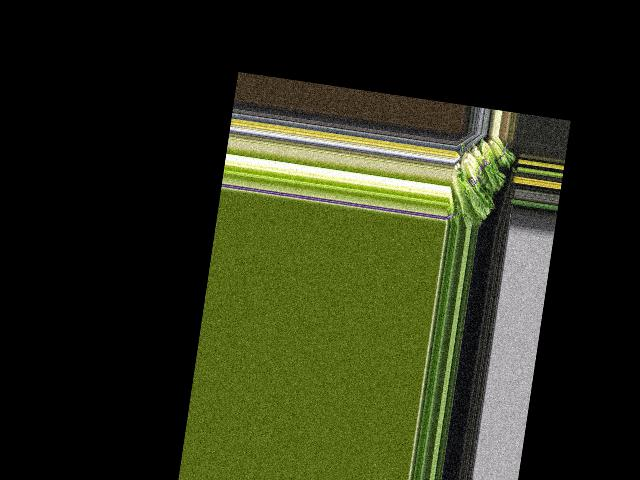lettuce: (447, 170, 493, 228)
